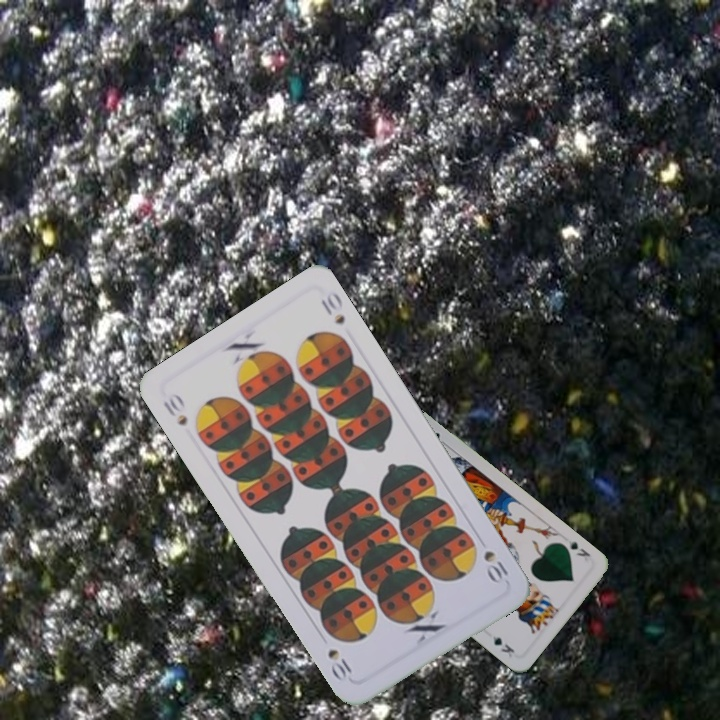GK: (564, 536, 593, 559)
S10: (479, 546, 513, 587), (159, 389, 190, 429)
